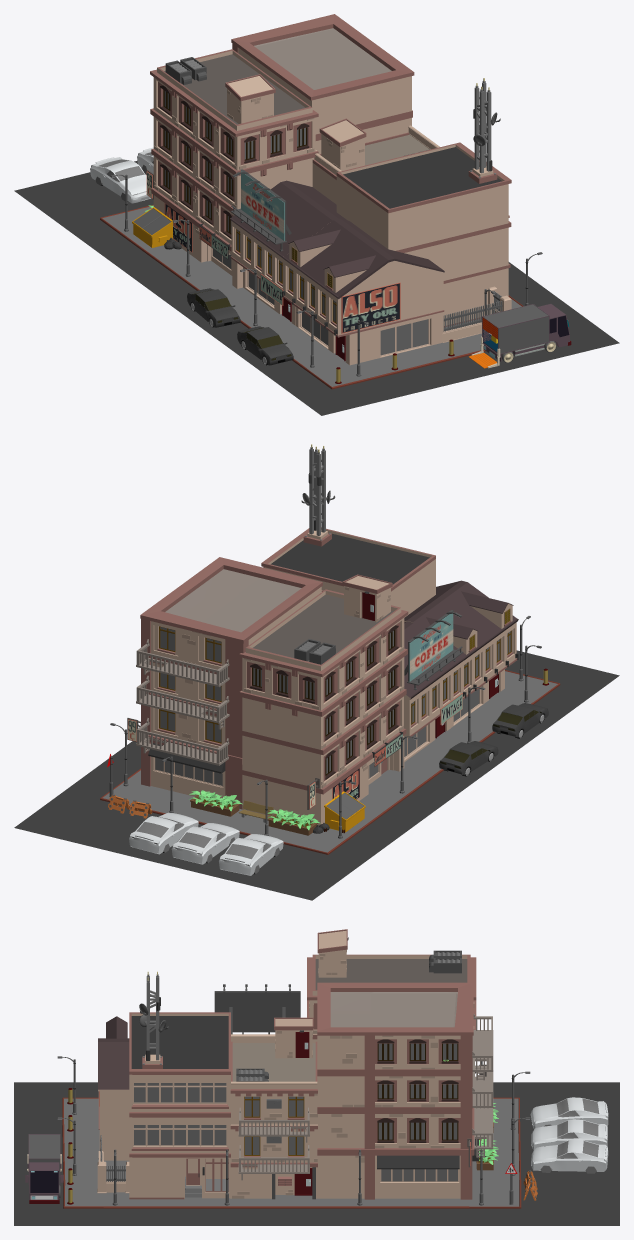
3 views of the same model, one above another, from view 1: azimuth 30°, elevation 25°; view 2: azimuth 150°, elevation 25°; view 3: azimuth 270°, elevation 25° (orthographic).
Visible parts, largest first — view 1: Cube.002, house_prefab_2.002, Plane, house_prefab_3.002, Cube.001, house_prefab_3.001, Cube.006, truck_open.001, Cube.021, Cube.010, house_prefab_4.001, house_roof_prefab.001 (+9 smaller); view 2: Cube.002, Cube.001, Plane, house_prefab_2.002, house_prefab_3.002, Cube.006, house_prefab_3.001, Cube.021, Cube.009, house_roof_prefab.001, Cube.022, car.002 (+10 smaller); view 3: Cube.001, Plane, house_prefab_2.002, house_prefab_4.001, Cube.002, house_prefab_3.002, Cube.003, Cube.021, truck_open.001, Cube.010, car.001, Cube.009 (+13 smaller).
Part boxes in pixels (x1,y1,x2,y2): Cube.002: (150,49,318,288); house_prefab_2.002: (336,142,511,327); Plane: (14,160,619,415); house_prefab_3.002: (282,218,444,365); Cube.001: (231,14,414,154); house_prefab_3.001: (230,180,346,325); Cube.006: (120,232,342,369); truck_open.001: (469,304,571,368); Cube.021: (230,169,291,251); Cube.010: (360,333,485,378); house_prefab_4.001: (312,132,429,204); house_roof_prefab.001: (225,74,275,123); Cube.002: (239,589,408,825); Cube.001: (136,557,322,809); Plane: (14,650,619,900); house_prefab_2.002: (261,527,435,617); house_prefab_3.002: (404,580,518,727); Cube.006: (346,694,534,839); house_prefab_3.001: (404,621,463,761); Cube.021: (404,610,463,690); Cube.009: (150,791,295,841); house_roof_prefab.001: (342,574,392,622); Cube.022: (301,444,335,546); car.002: (171,823,239,864); Cube.001: (317,982,493,1199); Plane: (14,1082,619,1225); house_prefab_2.002: (129,1012,230,1199); house_prefab_4.001: (230,1041,317,1199); Cube.002: (307,950,476,1043); house_prefab_3.002: (98,1016,129,1160); Cube.003: (103,1192,469,1208); Cube.021: (214,984,300,1034); truck_open.001: (25,1134,63,1203); Cube.010: (62,1119,113,1185); car.001: (531,1139,608,1173); Cube.009: (472,1119,521,1185).
Size of the model in its own units: 2888 by 2115 by 5156.
Materials: 44 (4 with a texture image).
